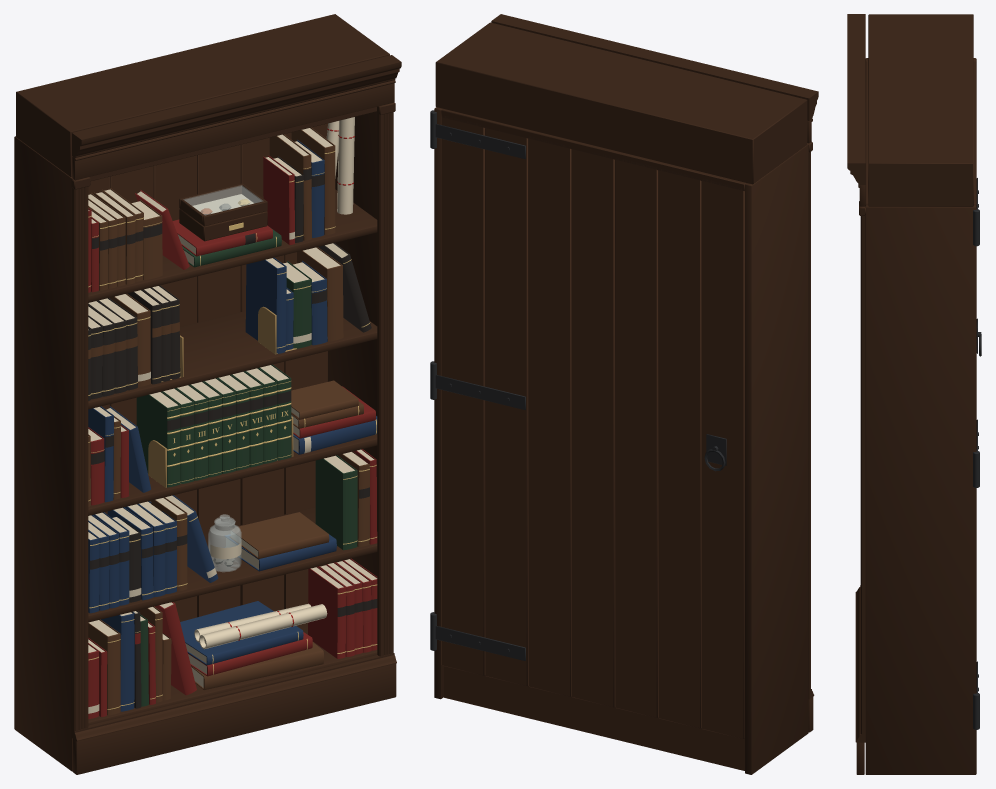
Rendered from bookshelf.glb.
3 renders of one model, left to right at view 1: azimuth 30°, elevation 25°; view 2: azimuth 150°, elevation 25°; view 3: azimuth 270°, elevation 25°, orthographic. The views are drawn at different scales.
Visible parts, largest first — view 1: bookshelf_case, bookshelf_books, bookshelf_props, IA_book_1, IA_book_3, IA_book_9, IA_book_8, IA_book_2, IA_book_7, IA_book_4, IA_book_6, IA_book_5; view 2: bookshelf_case; view 3: bookshelf_case.
Boxes of the visible parts, box(x1,y1,x2,y2) form: bookshelf_case: box(14, 14, 401, 774); bookshelf_books: box(88, 127, 377, 719); bookshelf_props: box(148, 117, 354, 649); IA_book_1: box(136, 391, 180, 487); IA_book_3: box(176, 385, 208, 480); IA_book_9: box(259, 364, 291, 460); IA_book_8: box(245, 368, 277, 463); IA_book_2: box(162, 388, 194, 483); IA_book_7: box(231, 371, 263, 467); IA_book_4: box(190, 381, 222, 477); IA_book_6: box(218, 374, 249, 470); IA_book_5: box(204, 378, 235, 473); bookshelf_case: box(430, 14, 818, 774); bookshelf_case: box(847, 14, 981, 774).
Size of the model in its own units: 1.11 by 2.1 by 0.4183.
